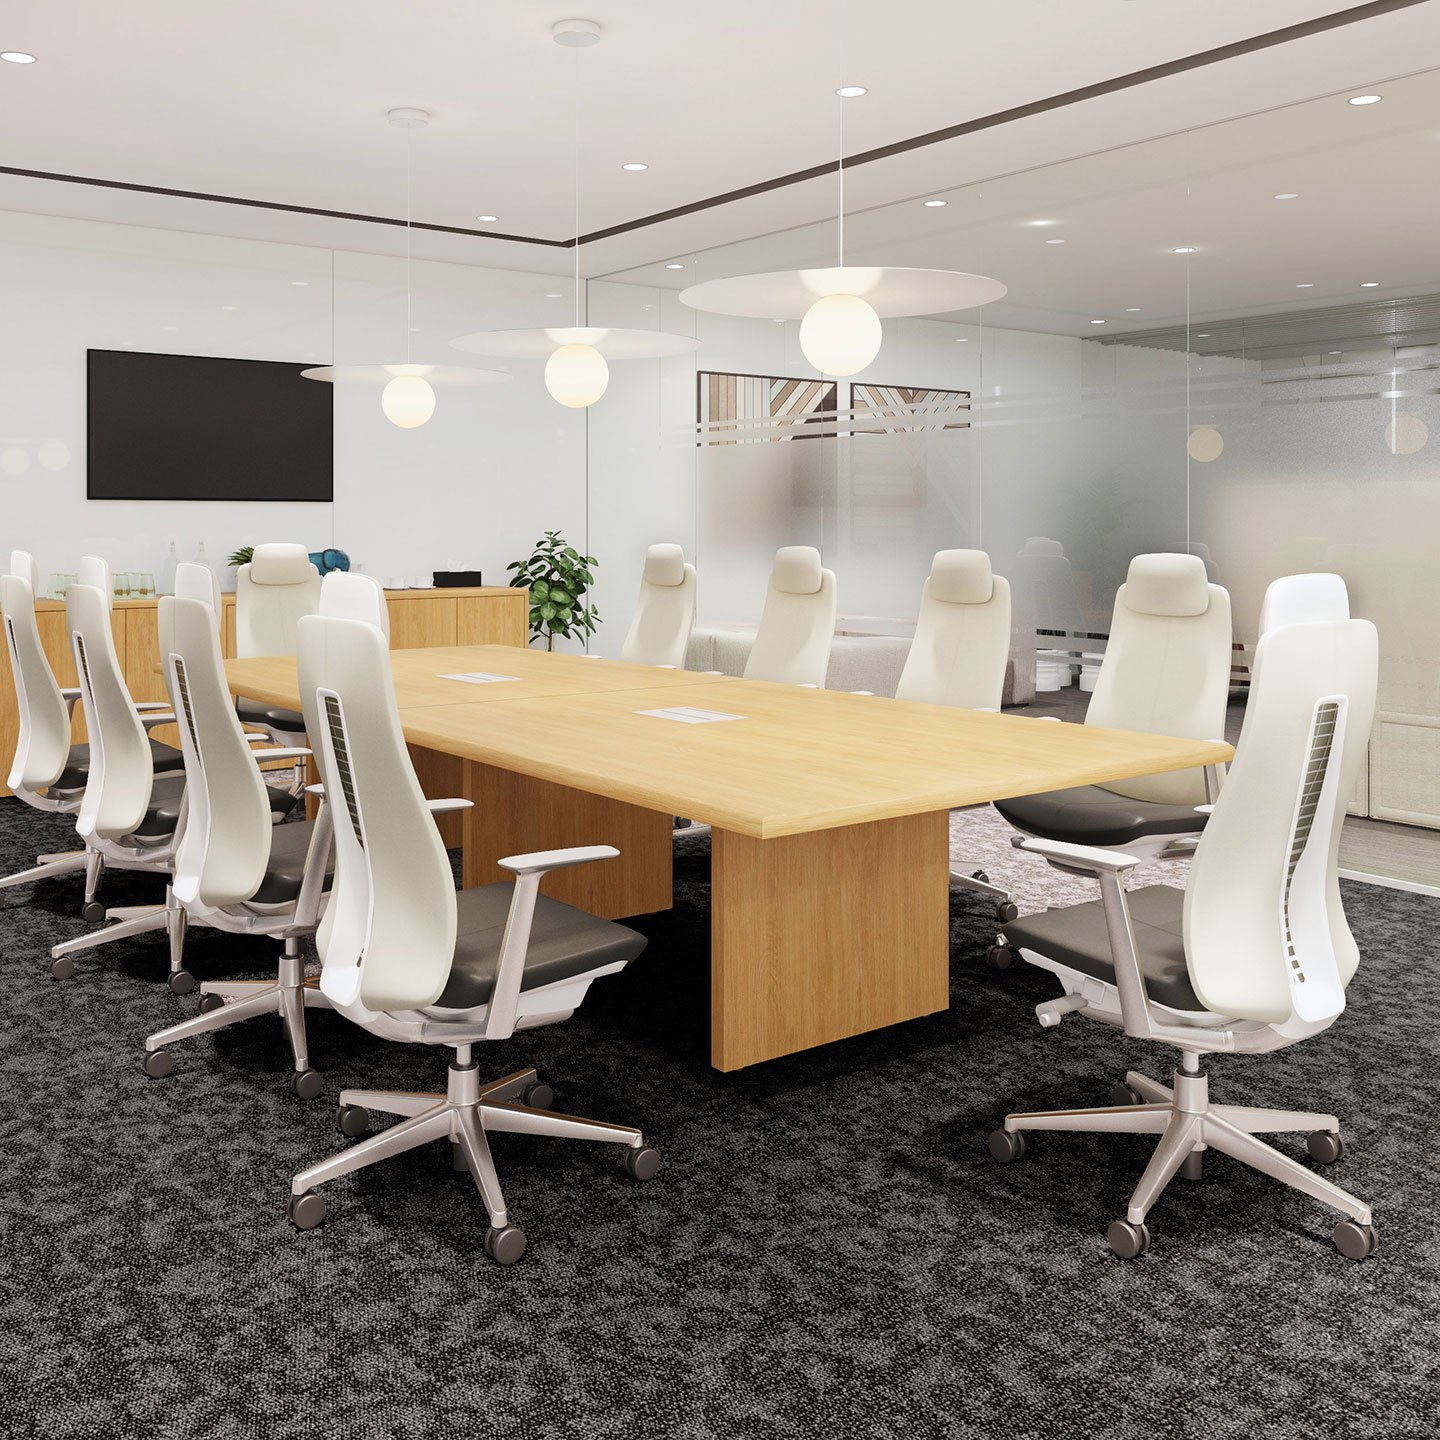conference_table: (208, 643, 1238, 1075)
